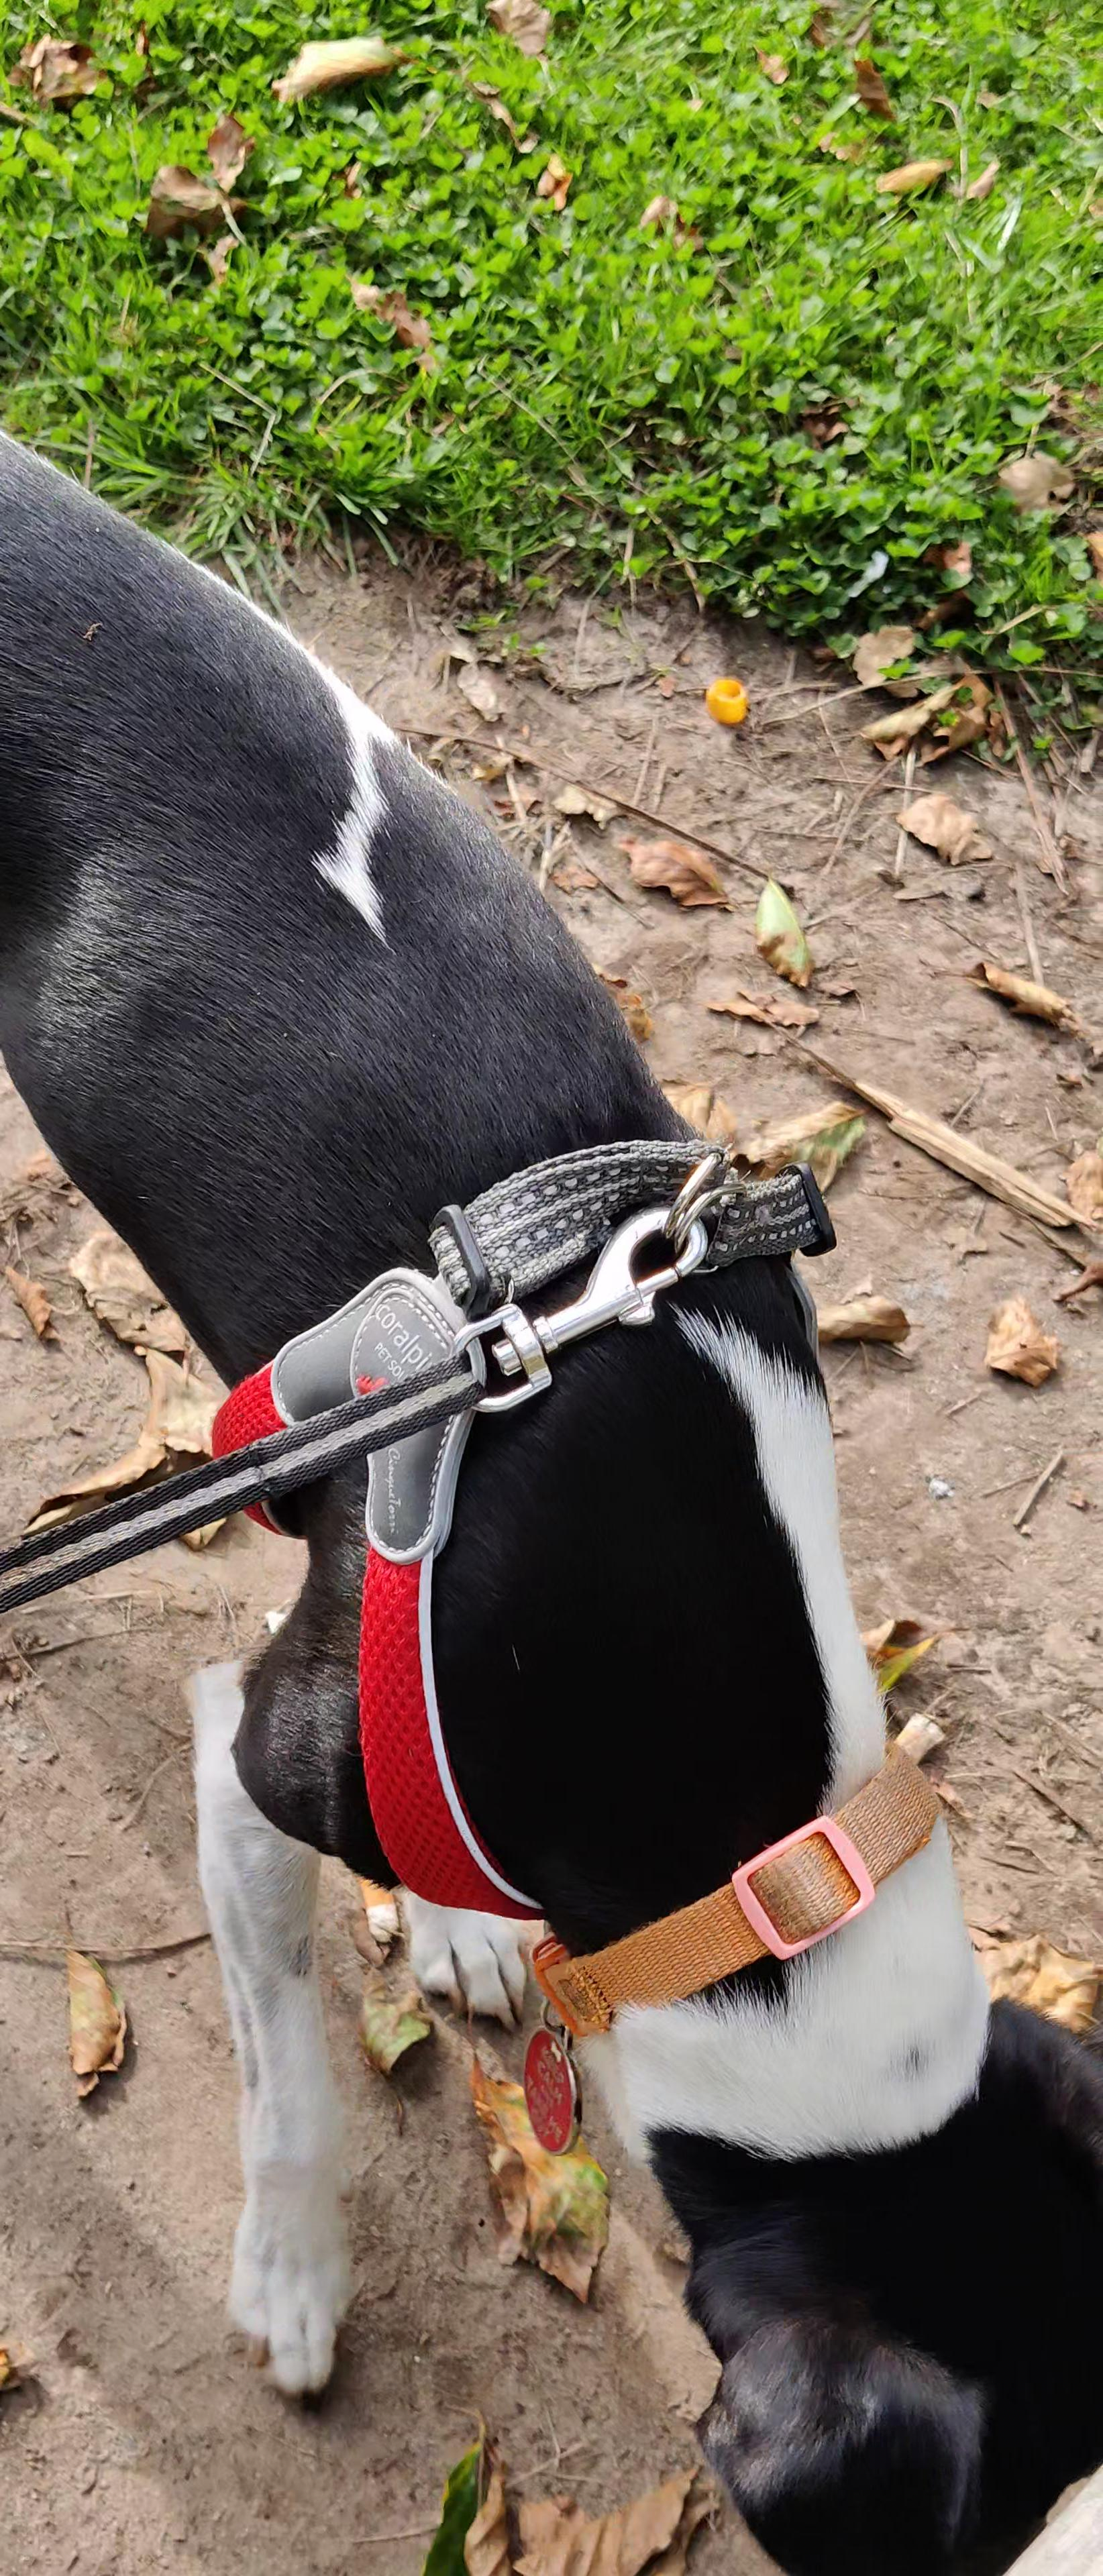Dog: (0, 417, 1103, 2576)
